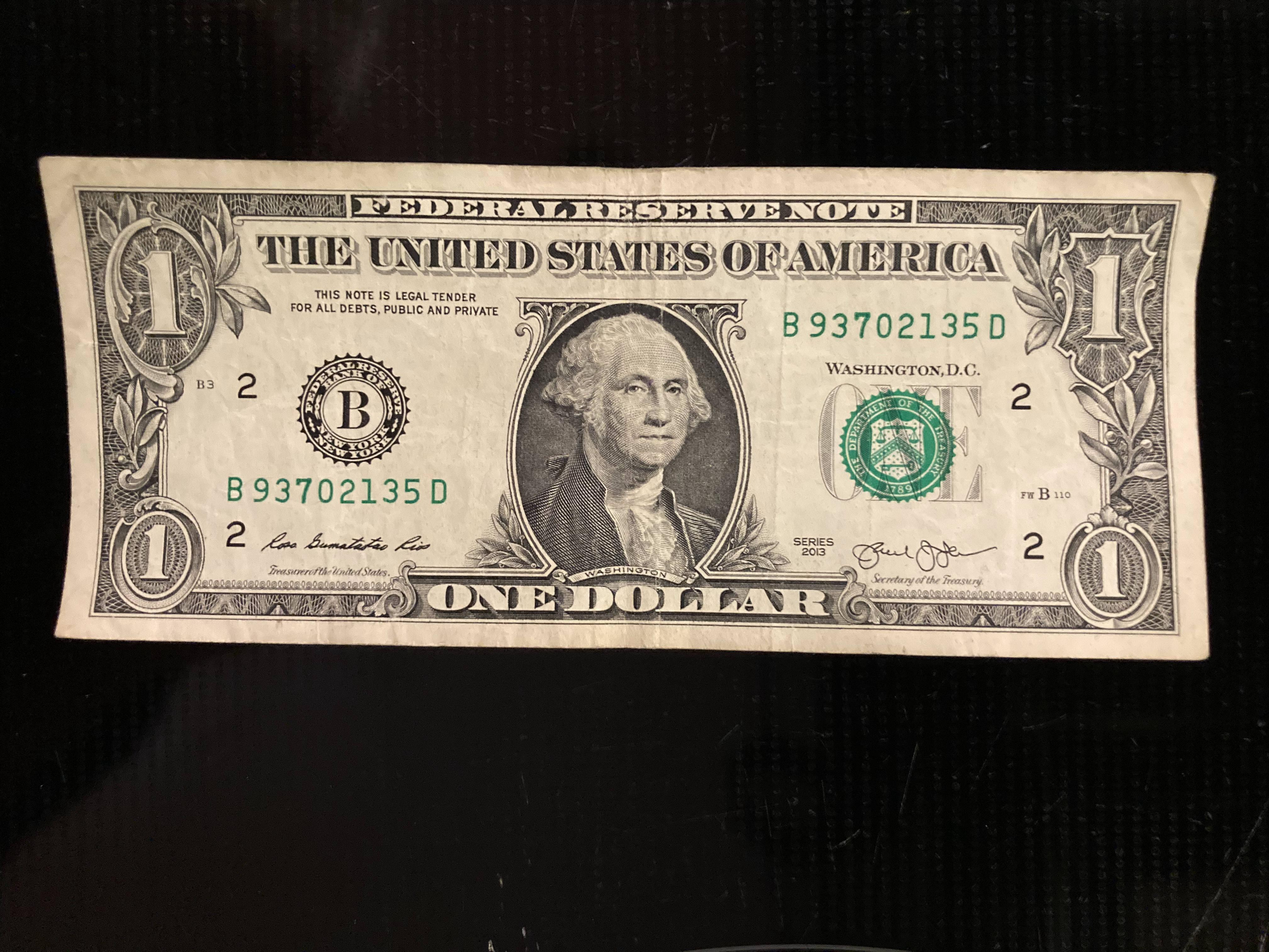one-front: (34, 156, 1217, 663)
